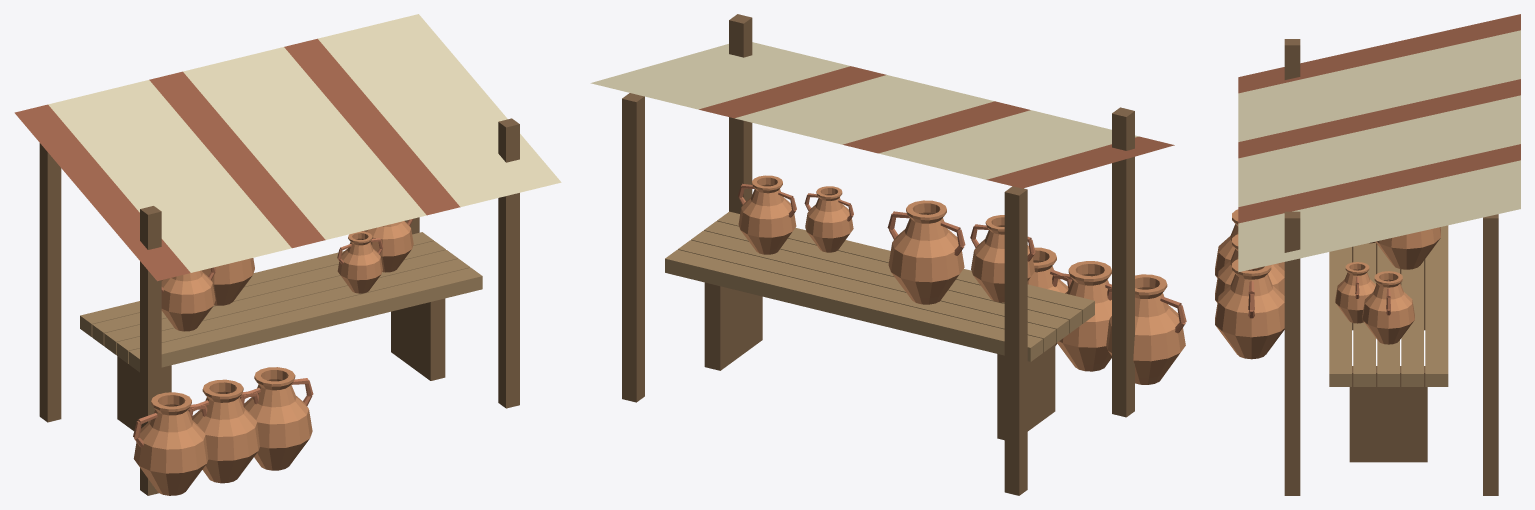
The model's file is stall.glb.
3 views of the same model, side by side, from view 1: azimuth 30°, elevation 25°; view 2: azimuth 150°, elevation 25°; view 3: azimuth 270°, elevation 25° (orthographic). The views are drawn at different scales.
Visible parts, largest first — view 1: CantileveredProduceStall; view 2: CantileveredProduceStall; view 3: CantileveredProduceStall.
Boxes of the visible parts, x1,y1,x2,y2 form: CantileveredProduceStall: (14, 14, 561, 495); CantileveredProduceStall: (590, 14, 1186, 495); CantileveredProduceStall: (1215, 14, 1520, 495).
Size of the model in its own units: 4 by 2.71 by 2.54.
